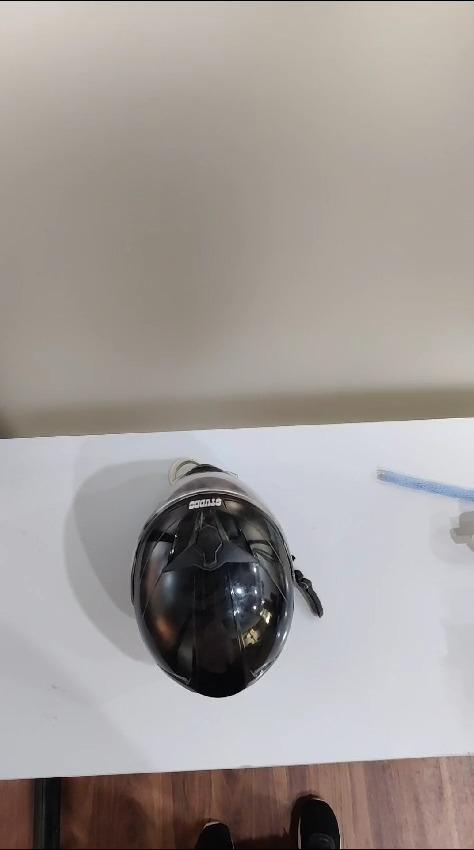Helmet: (131, 460, 322, 695)
